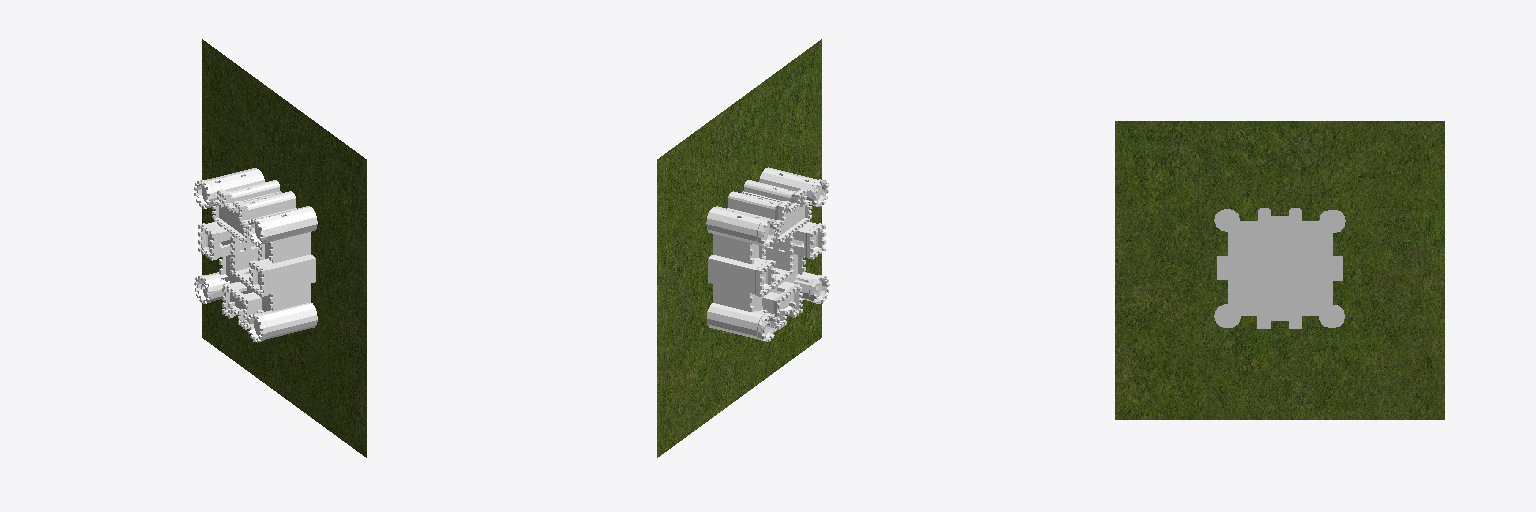
3 views of the same model, side by side, from view 1: azimuth 30°, elevation 25°; view 2: azimuth 150°, elevation 25°; view 3: azimuth 270°, elevation 25° (orthographic).
Visible parts, largest first — view 1: Plane, castle; view 2: Plane, castle; view 3: Plane, castle.
Boxes of the visible parts, x1=… form: Plane: x1=202, y1=39, x2=366, y2=457; castle: x1=194, y1=168, x2=317, y2=342; Plane: x1=657, y1=39, x2=821, y2=457; castle: x1=706, y1=167, x2=829, y2=341; Plane: x1=1115, y1=121, x2=1444, y2=419; castle: x1=1214, y1=208, x2=1345, y2=328.
Size of the model in its own units: 12.17 by 60 by 60.
Materials: 2 (1 with a texture image).